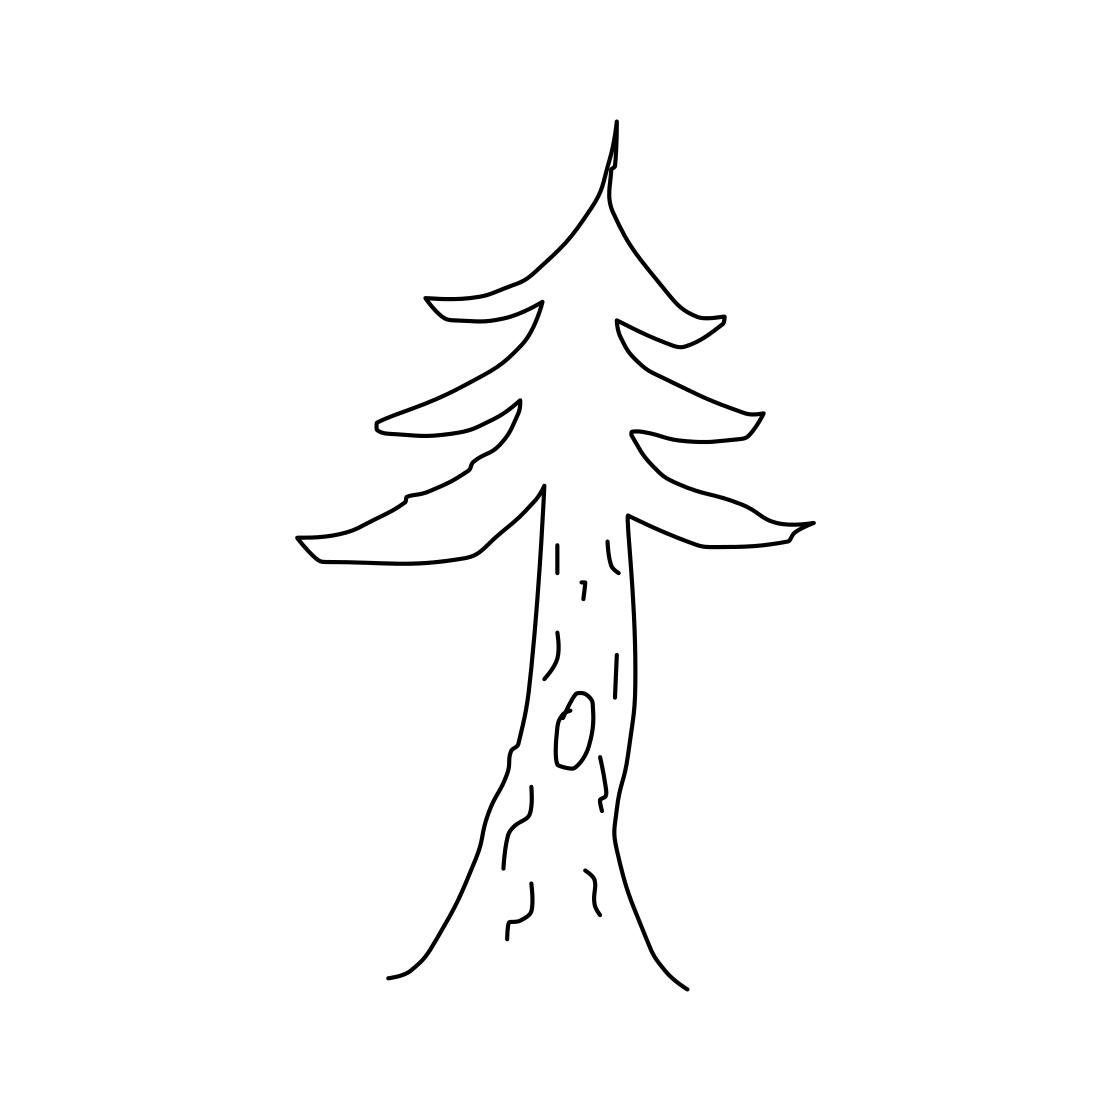Tree: (285, 98, 824, 1011)
